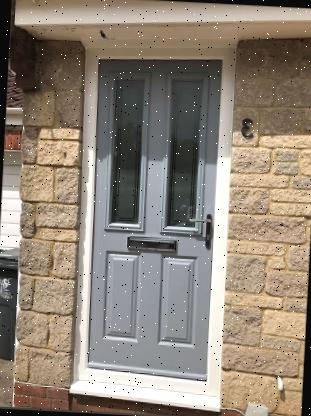door: (68, 38, 234, 408)
